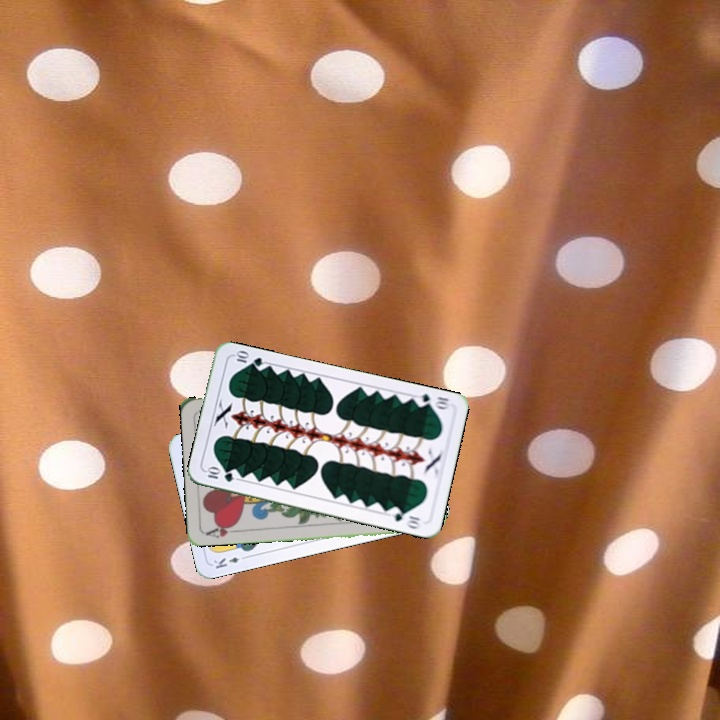EK: (209, 551, 250, 571)
G10: (411, 390, 452, 412), (202, 464, 236, 485)
HA: (202, 519, 242, 540)
